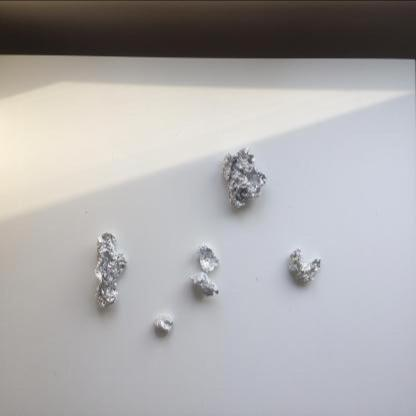Aluminium foil: (221, 148, 267, 209), (94, 232, 126, 308), (289, 247, 320, 281), (190, 270, 220, 298), (197, 243, 220, 273), (155, 314, 174, 332)
